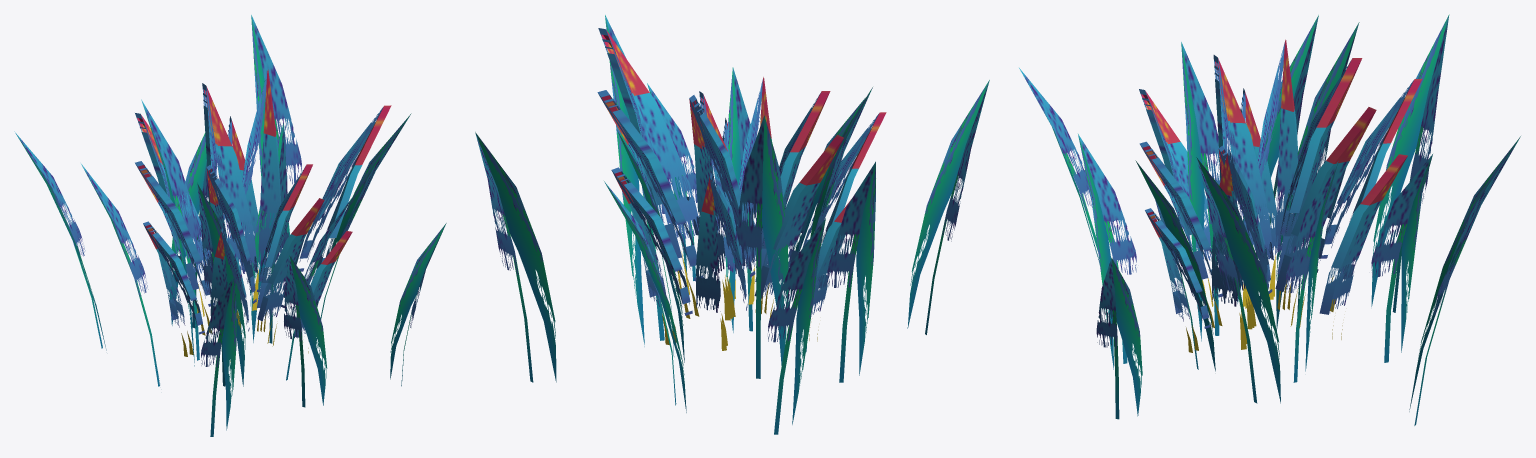
File: Grass_Biomas.fbx
The picture shows the model from 3 angles, left to right: view 1: azimuth 30°, elevation 25°; view 2: azimuth 150°, elevation 25°; view 3: azimuth 270°, elevation 25°; orthographic projection. The views are drawn at different scales.
Visible parts, largest first — view 1: Grass_2_Bioma1, Grass_3_Bioma1, Grass_3_Bioma3, Grass_2_Bioma2, Grass_1_Bioma1; view 2: Grass_2_Bioma1, Grass_3_Bioma3, Grass_3_Bioma1, Grass_2_Bioma2, Grass_1_Bioma1; view 3: Grass_2_Bioma1, Grass_3_Bioma3, Grass_3_Bioma1, Grass_2_Bioma2, Grass_1_Bioma1.
Part boxes in pixels (x1,y1,x2,y2): Grass_2_Bioma1: (135,72,383,337); Grass_3_Bioma1: (14,15,446,367); Grass_3_Bioma3: (17,16,445,436); Grass_2_Bioma2: (137,69,391,361); Grass_1_Bioma1: (204,90,282,294); Grass_2_Bioma1: (597,28,878,315); Grass_3_Bioma3: (475,15,989,434); Grass_3_Bioma1: (475,15,989,342); Grass_2_Bioma2: (601,30,886,350); Grass_1_Bioma1: (693,98,791,270); Grass_2_Bioma1: (1139,42,1413,328); Grass_3_Bioma3: (1031,14,1519,425); Grass_3_Bioma1: (1019,15,1520,349); Grass_2_Bioma2: (1141,39,1422,352); Grass_1_Bioma1: (1216,62,1318,288).
Bounding box in the file's own units: 134 × 108 × 93.52.
3 materials, 3 textured.
